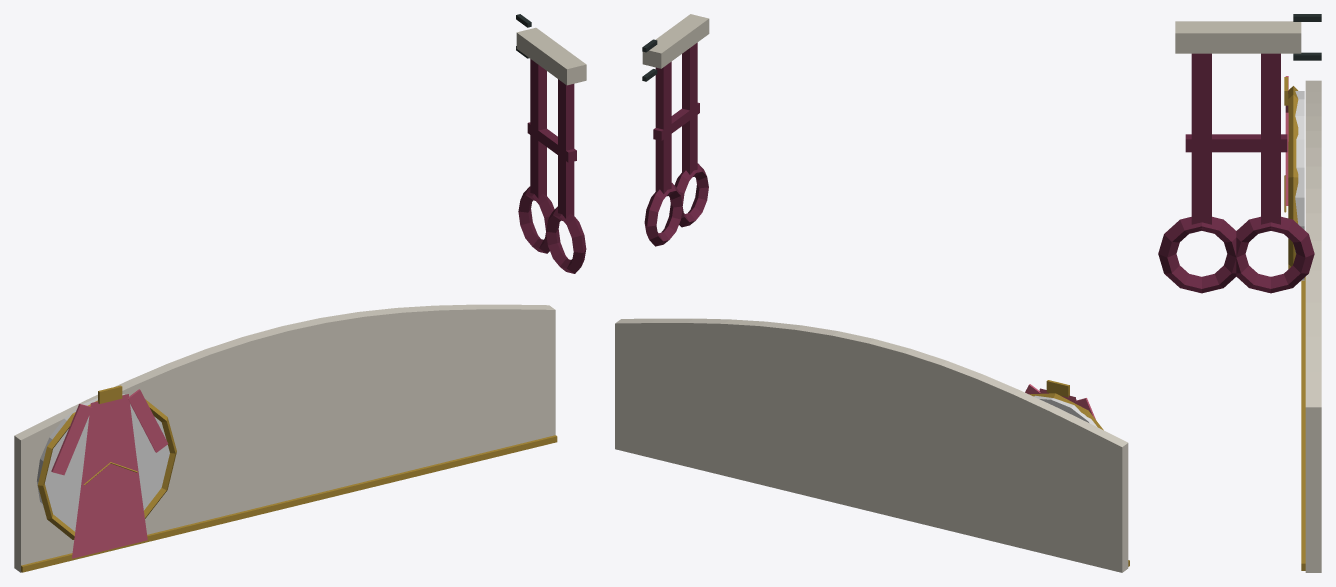
The model's file is bang_nha_may_thanh_thao_40.glb.
3 views of the same model, side by side, from view 1: azimuth 30°, elevation 25°; view 2: azimuth 150°, elevation 25°; view 3: azimuth 270°, elevation 25° (orthographic). The views are drawn at different scales.
Parts seen in each view (by area): view 1: bang_nha_may_thanh_thao_40; view 2: bang_nha_may_thanh_thao_40; view 3: bang_nha_may_thanh_thao_40.
Boxes of the visible parts, bbox=[...] form: bang_nha_may_thanh_thao_40: bbox=[14, 14, 586, 572]; bang_nha_may_thanh_thao_40: bbox=[615, 14, 1129, 572]; bang_nha_may_thanh_thao_40: bbox=[1158, 14, 1321, 572].
Size of the model in its own units: 3.8 by 2.93 by 0.805.
